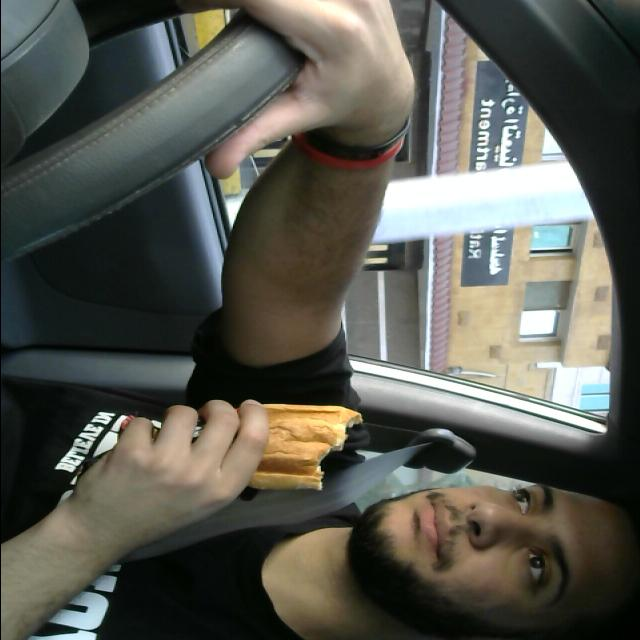eating: (129, 398, 364, 496)
